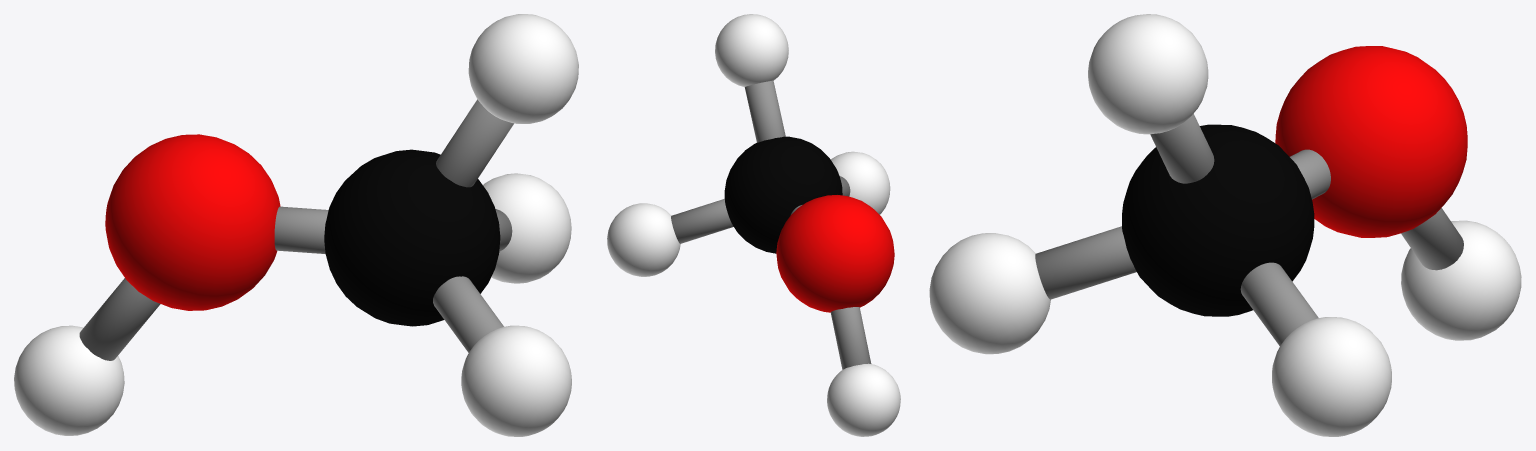
Rendered from methylalcohol.fbx.
3 renders of one model, left to right at view 1: azimuth 30°, elevation 25°; view 2: azimuth 150°, elevation 25°; view 3: azimuth 270°, elevation 25°, orthographic. The views are drawn at different scales.
Visible parts, largest first — view 1: hydrogen.002, hydrogen.005, hydrogen.001, hydrogen.004, hydrogen.006, hydrogen.003, bond.004, bond.005, bond.001, bond.002; view 2: hydrogen.002, hydrogen.005, hydrogen.006, hydrogen.004, hydrogen.003, hydrogen.001, bond.005, bond.004, bond.003; view 3: hydrogen.002, hydrogen.005, hydrogen.004, hydrogen.003, hydrogen.001, hydrogen.006, bond.001, bond.003, bond.004, bond.005, bond.002.
Part boxes in pixels (bbox=[...]): hydrogen.002: bbox=[105, 134, 280, 310]; hydrogen.005: bbox=[324, 149, 500, 326]; hydrogen.001: bbox=[461, 325, 571, 436]; hydrogen.004: bbox=[468, 14, 578, 123]; hydrogen.006: bbox=[14, 325, 124, 435]; hydrogen.003: bbox=[483, 173, 571, 283]; bond.004: bbox=[436, 99, 513, 187]; bond.005: bbox=[79, 278, 160, 360]; bond.001: bbox=[433, 276, 503, 352]; bond.002: bbox=[274, 206, 328, 253]; hydrogen.002: bbox=[776, 195, 894, 312]; hydrogen.005: bbox=[724, 136, 842, 253]; hydrogen.006: bbox=[827, 363, 900, 436]; hydrogen.004: bbox=[715, 14, 788, 86]; hydrogen.003: bbox=[607, 203, 680, 276]; hydrogen.001: bbox=[831, 151, 890, 214]; bond.005: bbox=[830, 307, 871, 369]; bond.004: bbox=[744, 80, 785, 142]; bond.003: bbox=[671, 199, 733, 243]; hydrogen.002: bbox=[1275, 46, 1467, 237]; hydrogen.005: bbox=[1122, 124, 1314, 316]; hydrogen.004: bbox=[1088, 14, 1208, 134]; hydrogen.003: bbox=[1272, 317, 1391, 436]; hydrogen.001: bbox=[929, 233, 1050, 354]; hydrogen.006: bbox=[1401, 220, 1521, 340]; bond.001: bbox=[1035, 226, 1136, 299]; bond.003: bbox=[1240, 262, 1318, 345]; bond.004: bbox=[1150, 113, 1214, 183]; bond.005: bbox=[1401, 208, 1463, 270]; bond.002: bbox=[1290, 149, 1330, 199].
Bounding box in the file's own units: 505 × 440 × 490.
